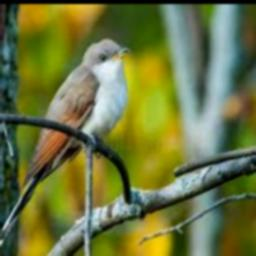Cuckoo: (0, 38, 130, 252)
